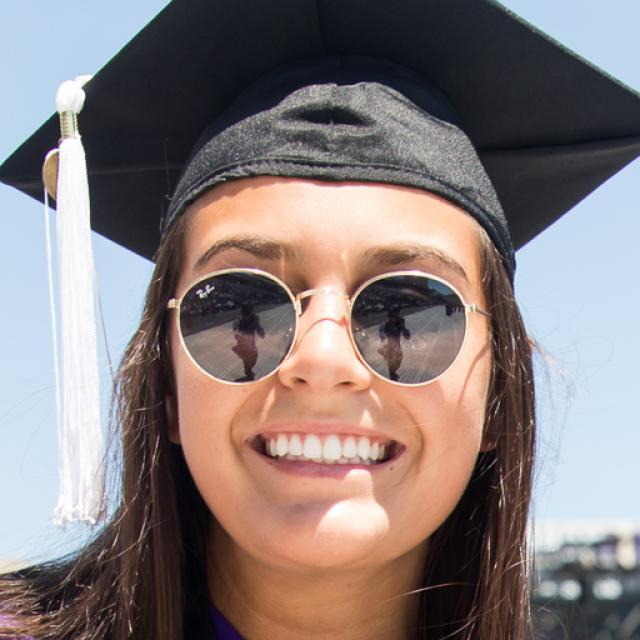disgust: (168, 178, 492, 576)
